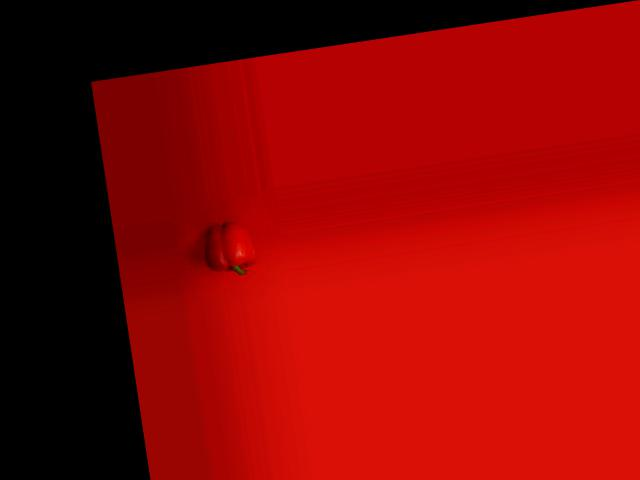bell_pepper: (198, 215, 258, 281)
